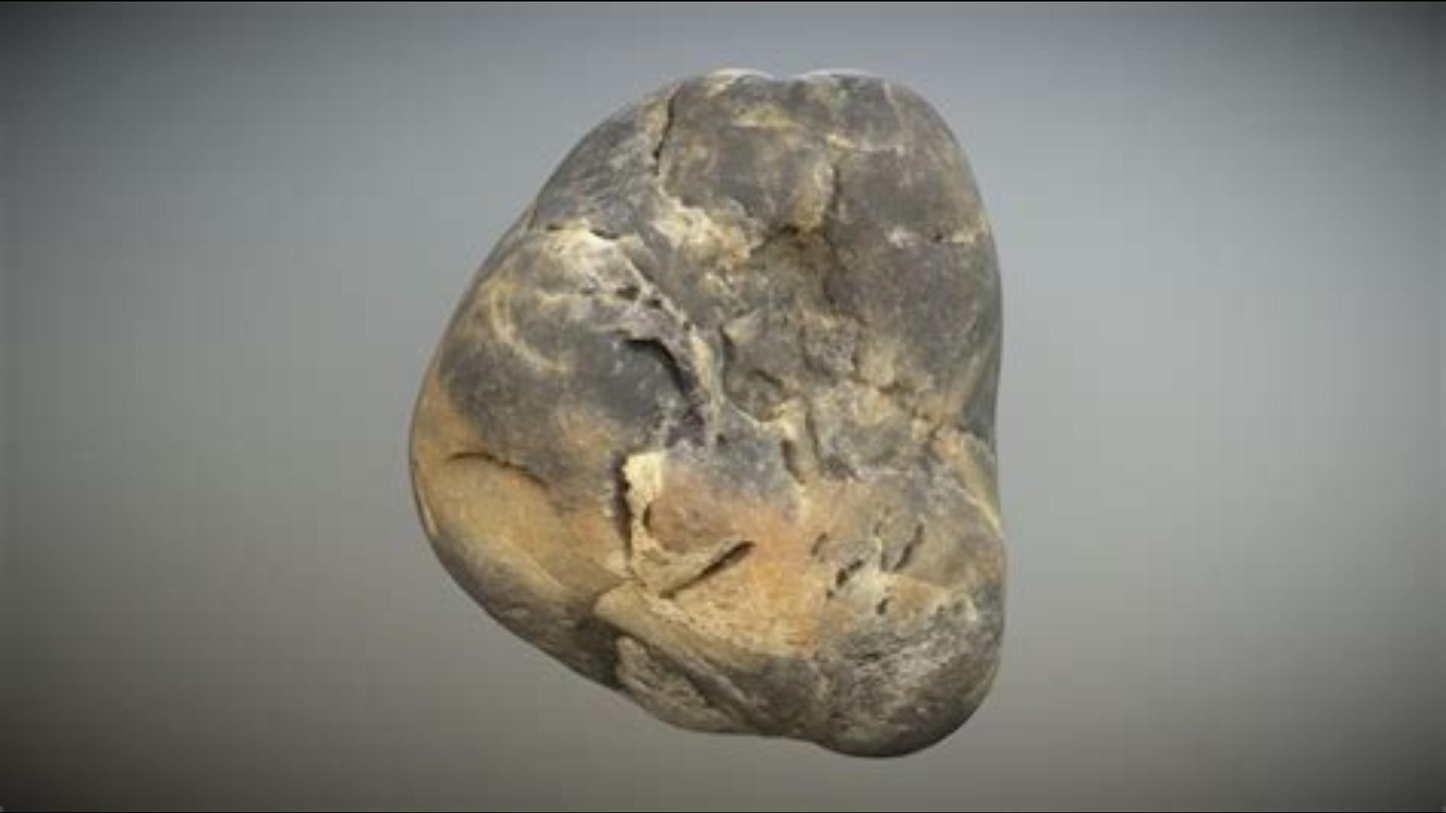rock: (412, 71, 1001, 748)
